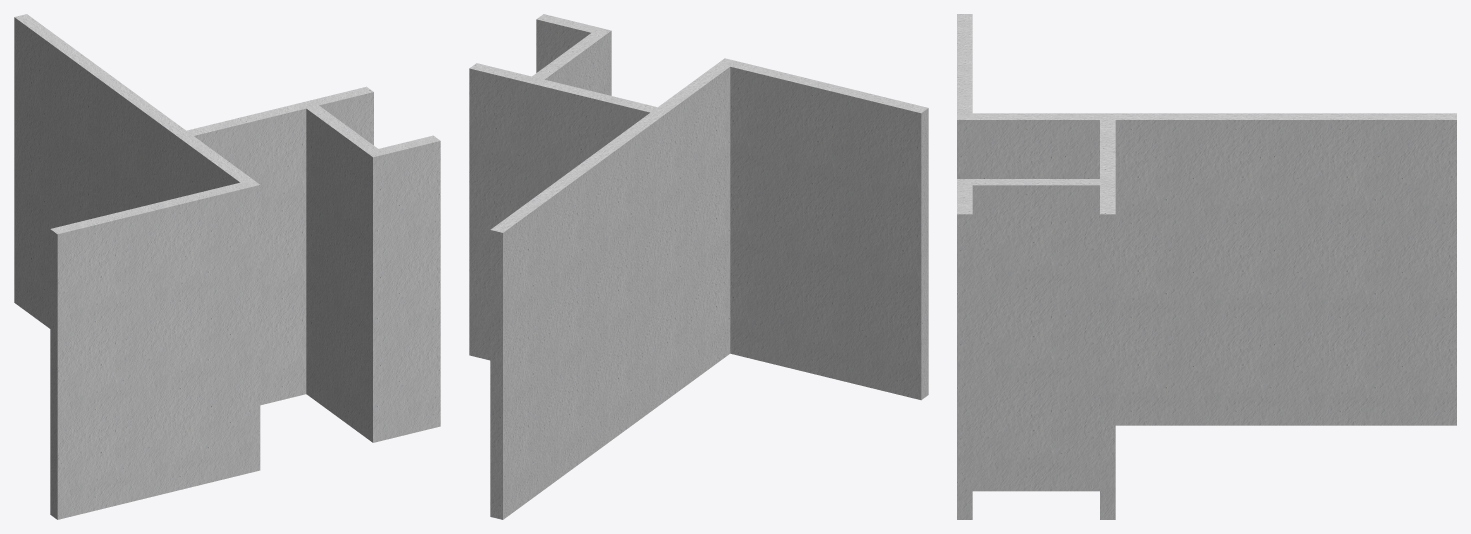
File: interior-walls.glb
3 views of the same model, side by side, from view 1: azimuth 30°, elevation 25°; view 2: azimuth 150°, elevation 25°; view 3: azimuth 270°, elevation 25° (orthographic). The views are drawn at different scales.
Visible parts, largest first — view 1: interior_wall3, interior_wall1, interior_wall2; view 2: interior_wall3, interior_wall2, interior_wall1; view 3: interior_wall3, interior_wall1, interior_wall2.
Boxes of the visible parts, x1=… form: interior_wall3: x1=14, y1=14, x2=260, y2=519; interior_wall1: x1=306, y1=105, x2=440, y2=442; interior_wall2: x1=187, y1=86, x2=373, y2=405; interior_wall3: x1=490, y1=58, x2=928, y2=519; interior_wall2: x1=469, y1=63, x2=657, y2=360; interior_wall1: x1=532, y1=14, x2=611, y2=95; interior_wall3: x1=957, y1=14, x2=1456, y2=425; interior_wall1: x1=957, y1=179, x2=1099, y2=519; interior_wall2: x1=1100, y1=120, x2=1115, y2=519.
Size of the model in its own units: 3.45 by 2.46 by 3.64.
1 material, 1 textured.
